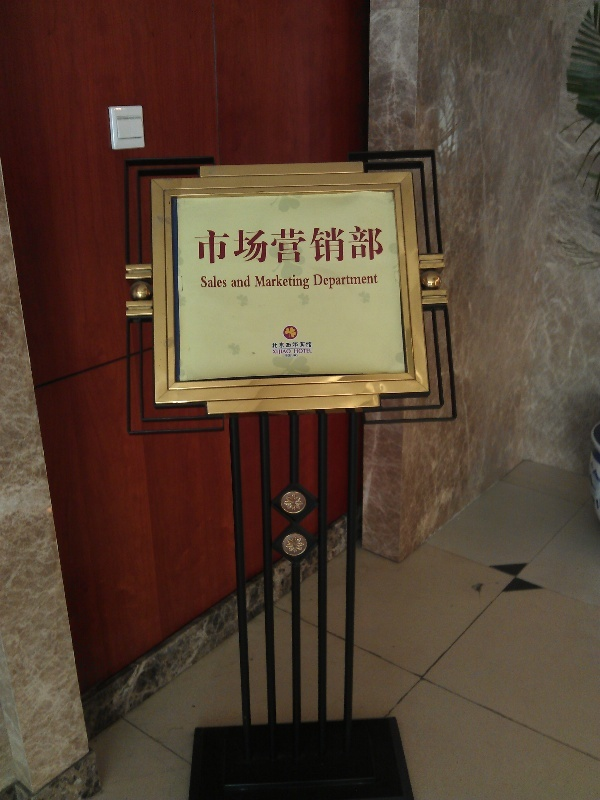text: (209, 225, 224, 266), (225, 225, 240, 266), (241, 225, 256, 266), (257, 225, 272, 266), (273, 225, 288, 266), (289, 225, 304, 266), (305, 225, 320, 266), (321, 225, 336, 266), (337, 225, 352, 266), (353, 225, 368, 266), (369, 225, 383, 266), (195, 225, 208, 266), (321, 272, 336, 290), (337, 272, 352, 290), (353, 272, 368, 290), (257, 275, 272, 290), (273, 275, 288, 290), (289, 275, 304, 290), (209, 275, 224, 289), (369, 272, 380, 290), (273, 341, 288, 349), (289, 341, 304, 349), (241, 276, 251, 288), (200, 275, 208, 289), (231, 276, 240, 288), (314, 272, 320, 290), (273, 349, 288, 355), (305, 275, 311, 290), (305, 341, 313, 349), (289, 354, 299, 358), (294, 349, 304, 353), (305, 349, 313, 353), (254, 275, 256, 290), (225, 275, 227, 289), (289, 349, 292, 355), (286, 354, 288, 358)
